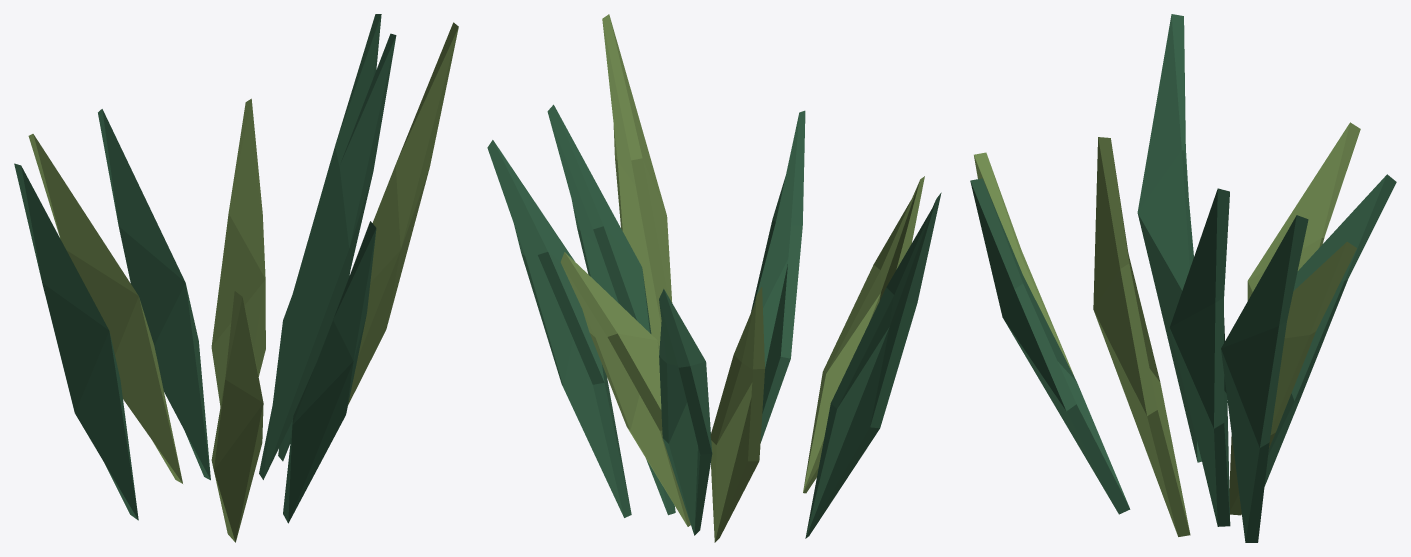
Rendered from grass_clump.glb.
3 renders of one model, left to right at view 1: azimuth 30°, elevation 25°; view 2: azimuth 150°, elevation 25°; view 3: azimuth 270°, elevation 25°, orthographic. The views are drawn at different scales.
Parts seen in each view (by area): view 1: Grass; view 2: Grass; view 3: Grass.
Part boxes in pixels (x1,y1,x2,y2): Grass: [14, 14, 458, 542]; Grass: [487, 14, 941, 542]; Grass: [970, 14, 1396, 542].
Size of the model in its own units: 0.4477 by 0.4698 by 0.3996.
